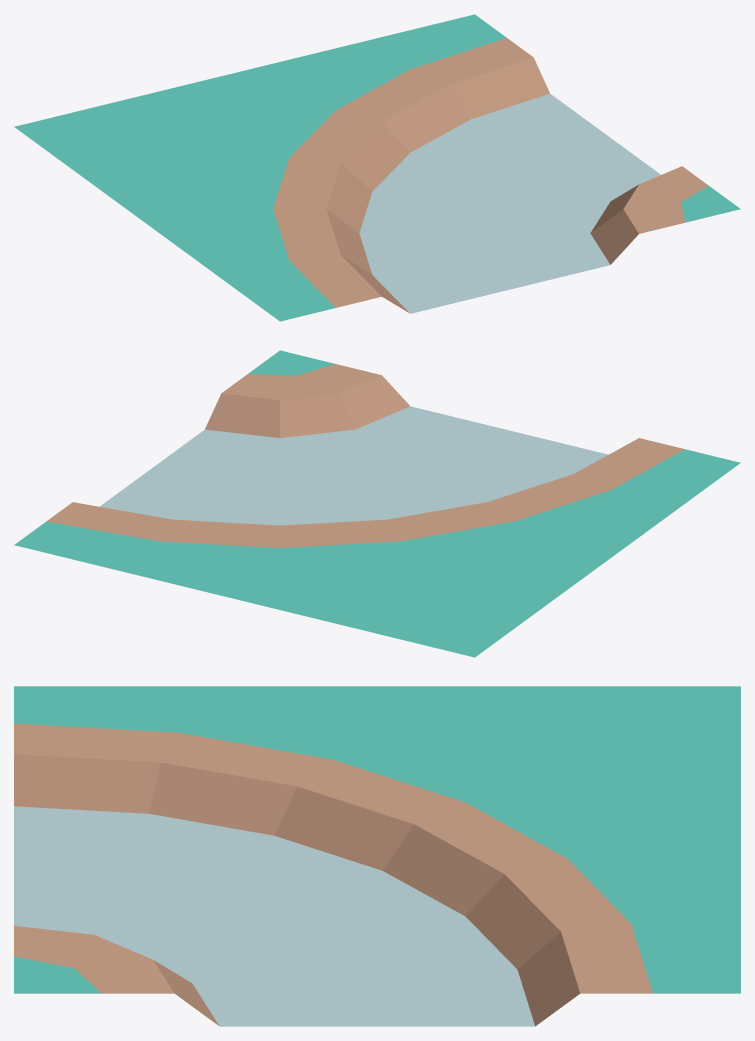
File: ground_riverBend.glb
3 renders of one model, top to bottom at view 1: azimuth 30°, elevation 25°; view 2: azimuth 150°, elevation 25°; view 3: azimuth 270°, elevation 25°, orthographic. The views are drawn at different scales.
Parts seen in each view (by area): view 1: ground_riverBend; view 2: ground_riverBend; view 3: ground_riverBend.
Part boxes in pixels (x1=…): ground_riverBend: x1=14, y1=14, x2=740, y2=321; ground_riverBend: x1=14, y1=350, x2=740, y2=657; ground_riverBend: x1=14, y1=686, x2=740, y2=1026.
Size of the model in its own units: 1 by 0.05 by 1.
